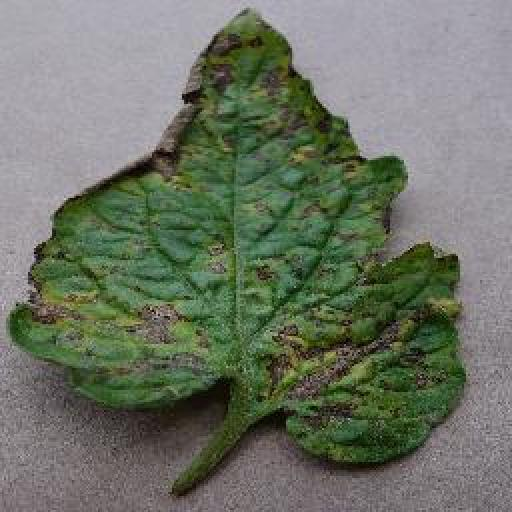Early Blight: (10, 5, 468, 471)
